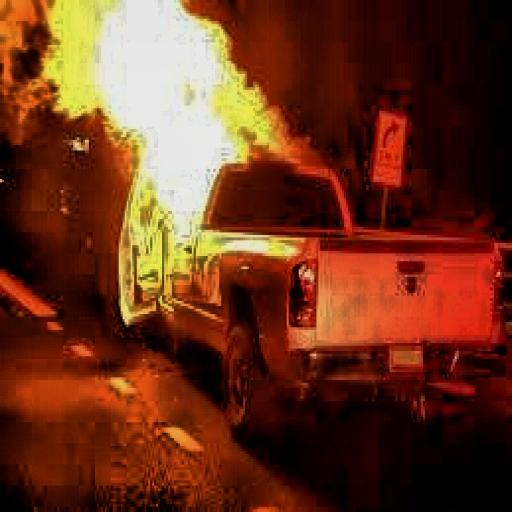fire: (66, 0, 310, 230)
